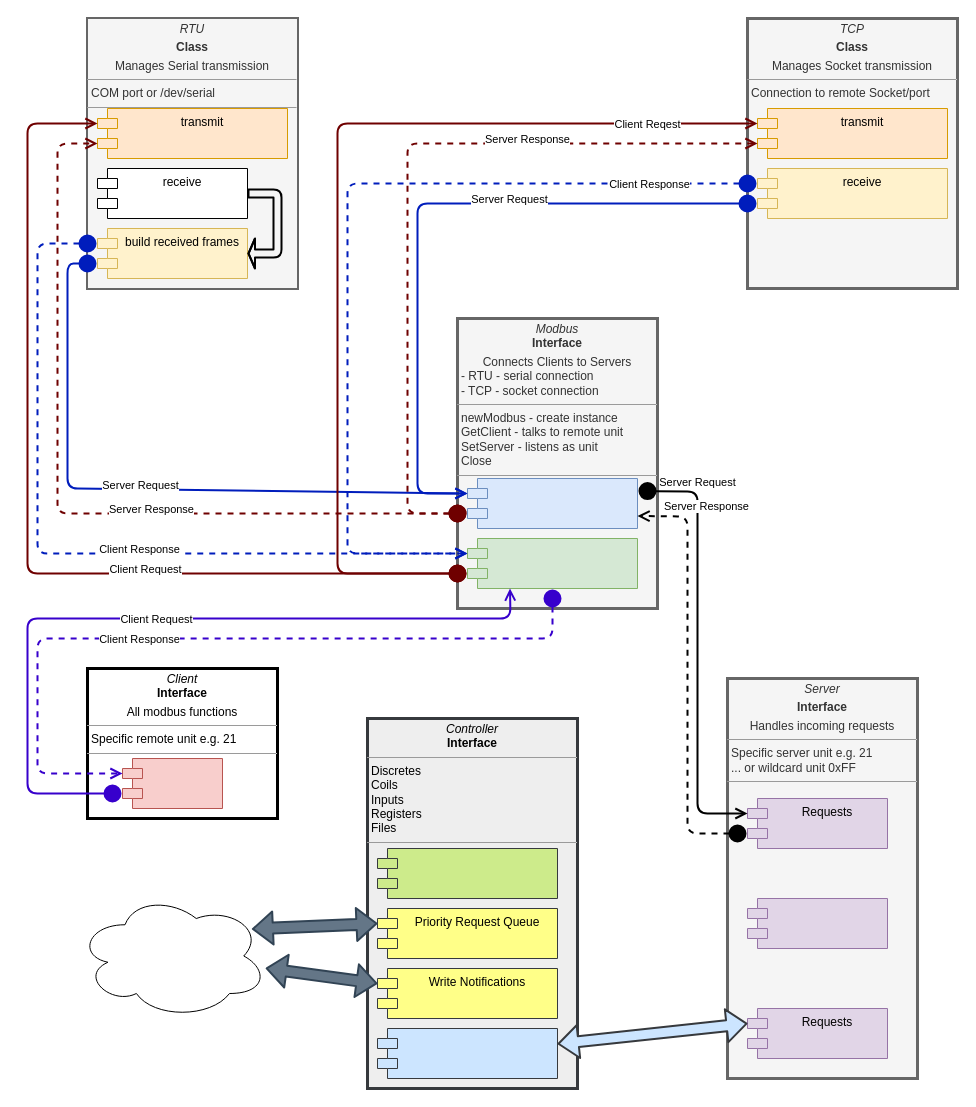
This 976x1107 diagram has some shape labels left out. Here are the shapes that lost their labels. From the top down, the centre of each, then its label:
the point at 552,503: For Servers - Demux directs incoming requests to unit server
the point at 552,563: For Clients - Associate tags outgoing requests to match response
the point at 172,783: Query
the point at 467,873: Transaction Control
the point at 817,923: Decoder
the point at 172,955: Application
the point at 467,1053: Secondary Request Queue
